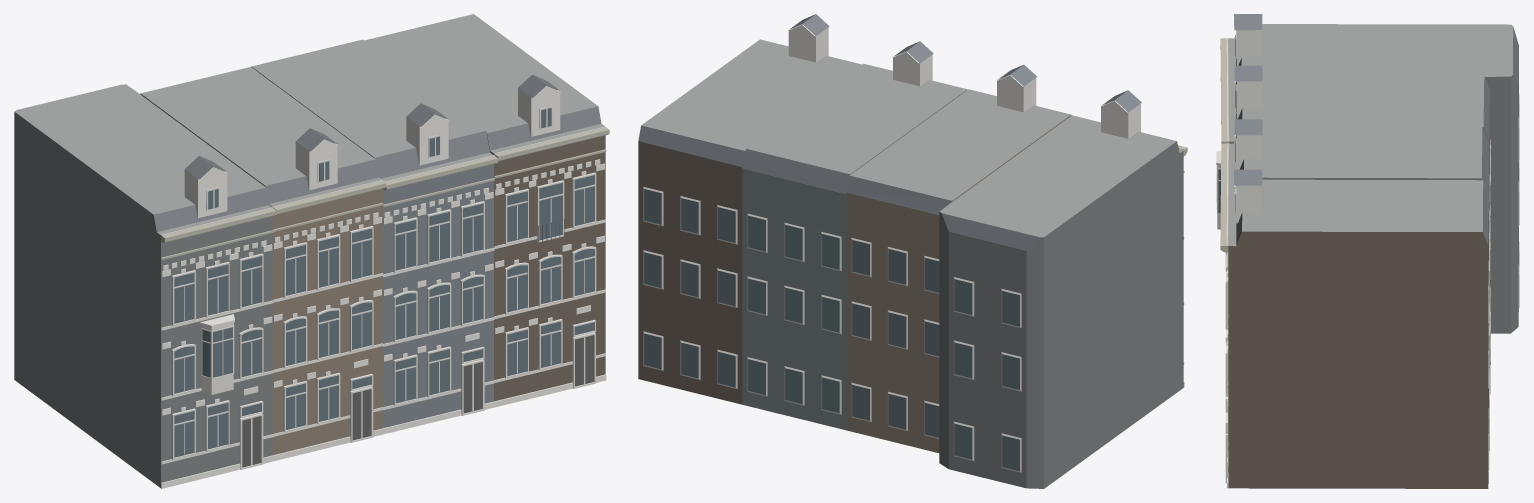
File: chunk-face-tex-8-58-r1.glb
The picture shows the model from 3 angles, left to right: view 1: azimuth 30°, elevation 25°; view 2: azimuth 150°, elevation 25°; view 3: azimuth 270°, elevation 25°; orthographic projection. The views are drawn at different scales.
Parts seen in each view (by area): view 1: face-tex-8-58-r1; view 2: face-tex-8-58-r1; view 3: face-tex-8-58-r1.
Boxes of the visible parts, box(x1,y1,x2,y2) form: face-tex-8-58-r1: box(14, 14, 609, 488); face-tex-8-58-r1: box(638, 14, 1187, 488); face-tex-8-58-r1: box(1216, 14, 1519, 488).
Size of the model in its own units: 24.9 by 16.35 by 15.34.
